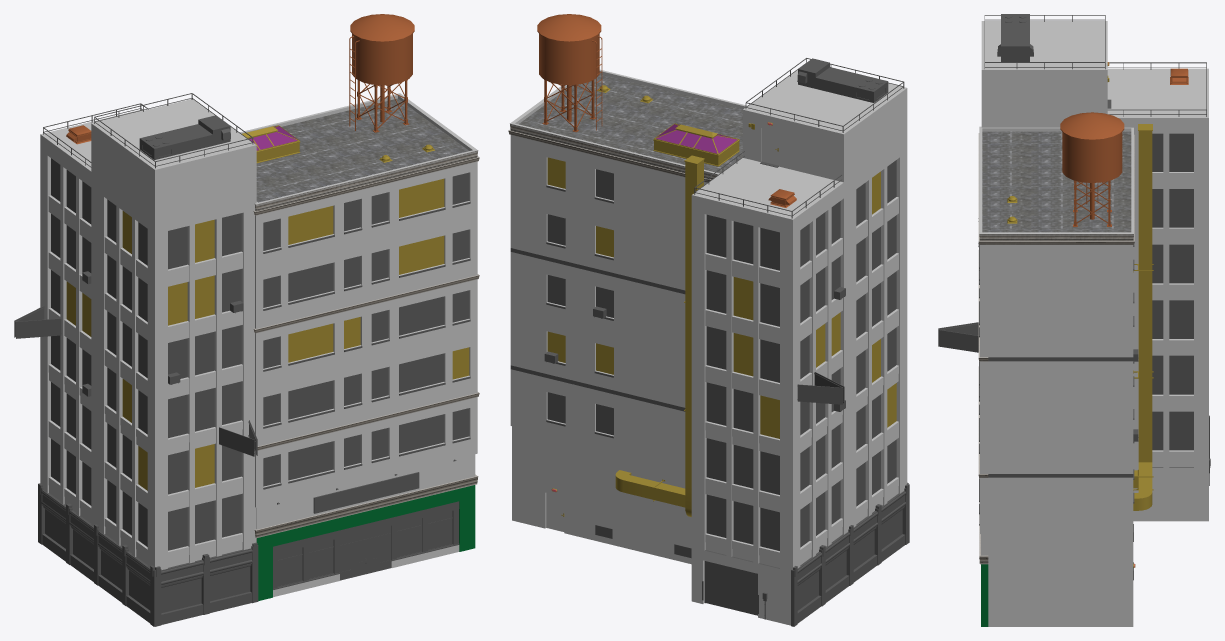
The model's file is mcp_building_17_LOD_0.FBX.
The picture shows the model from 3 angles, left to right: view 1: azimuth 30°, elevation 25°; view 2: azimuth 150°, elevation 25°; view 3: azimuth 270°, elevation 25°; orthographic projection.
Parts seen in each view (by area): view 1: mcp_building_17, mcp_building_17_walls_01, mcp_building_17_walls_03, mcp_building_17_rooftop, mcp_building_17_walls_02, mcp_building_17_props_02, mcp_building_17_glass, mcp_building_17_props_01; view 2: mcp_building_17_walls_01, mcp_building_17_walls_02, mcp_building_17, mcp_building_17_rooftop, mcp_building_17_props_01, mcp_building_17_props_02, mcp_building_17_walls_03, mcp_building_17_doors; view 3: mcp_building_17_walls_02, mcp_building_17_walls_01, mcp_building_17_rooftop, mcp_building_17, mcp_building_17_walls_03, mcp_building_17_props_01, mcp_building_17_props_02.
Part boxes in pixels (left/top/right/bottom): mcp_building_17: left=14, top=93, right=475, bottom=626; mcp_building_17_walls_01: left=40, top=123, right=256, bottom=569; mcp_building_17_walls_03: left=240, top=93, right=479, bottom=538; mcp_building_17_rooftop: left=40, top=98, right=468, bottom=202; mcp_building_17_walls_02: left=263, top=204, right=470, bottom=597; mcp_building_17_props_02: left=66, top=14, right=414, bottom=144; mcp_building_17_glass: left=277, top=511, right=452, bottom=586; mcp_building_17_props_01: left=242, top=125, right=434, bottom=163; mcp_building_17_walls_01: left=691, top=88, right=907, bottom=625; mcp_building_17_walls_02: left=510, top=135, right=706, bottom=564; mcp_building_17: left=510, top=58, right=909, bottom=626; mcp_building_17_rooftop: left=519, top=70, right=906, bottom=219; mcp_building_17_props_01: left=551, top=85, right=778, bottom=516; mcp_building_17_props_02: left=537, top=14, right=796, bottom=207; mcp_building_17_walls_03: left=508, top=69, right=746, bottom=182; mcp_building_17_doors: left=546, top=128, right=778, bottom=531; mcp_building_17_walls_02: left=988, top=245, right=1133, bottom=626; mcp_building_17_walls_01: left=981, top=70, right=1208, bottom=521; mcp_building_17_rooftop: left=981, top=21, right=1208, bottom=232; mcp_building_17: left=938, top=14, right=1210, bottom=626; mcp_building_17_walls_03: left=978, top=126, right=1134, bottom=564; mcp_building_17_props_01: left=1007, top=62, right=1153, bottom=567; mcp_building_17_props_02: left=1060, top=68, right=1188, bottom=226.
Bounding box in the file's own units: 3100 × 4106 × 2047.
